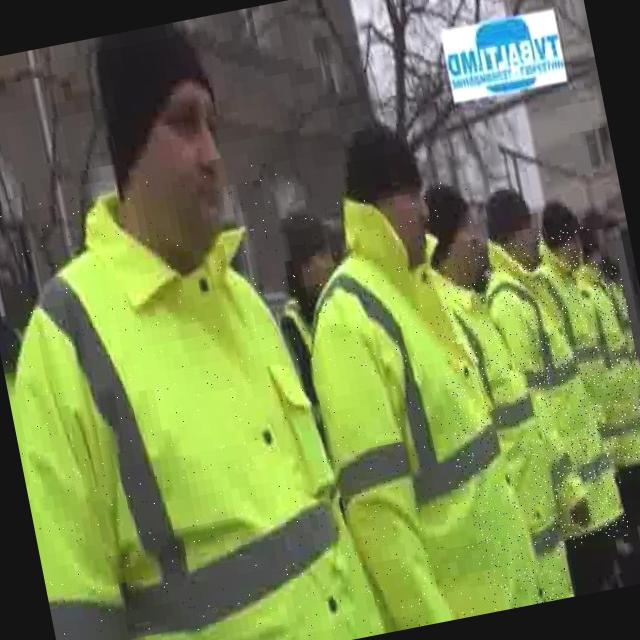no-helmet: (89, 52, 244, 256), (342, 168, 439, 270)
vest: (0, 149, 384, 640), (278, 175, 550, 638), (426, 252, 576, 612), (472, 222, 632, 558), (528, 222, 637, 491), (571, 256, 640, 471)
